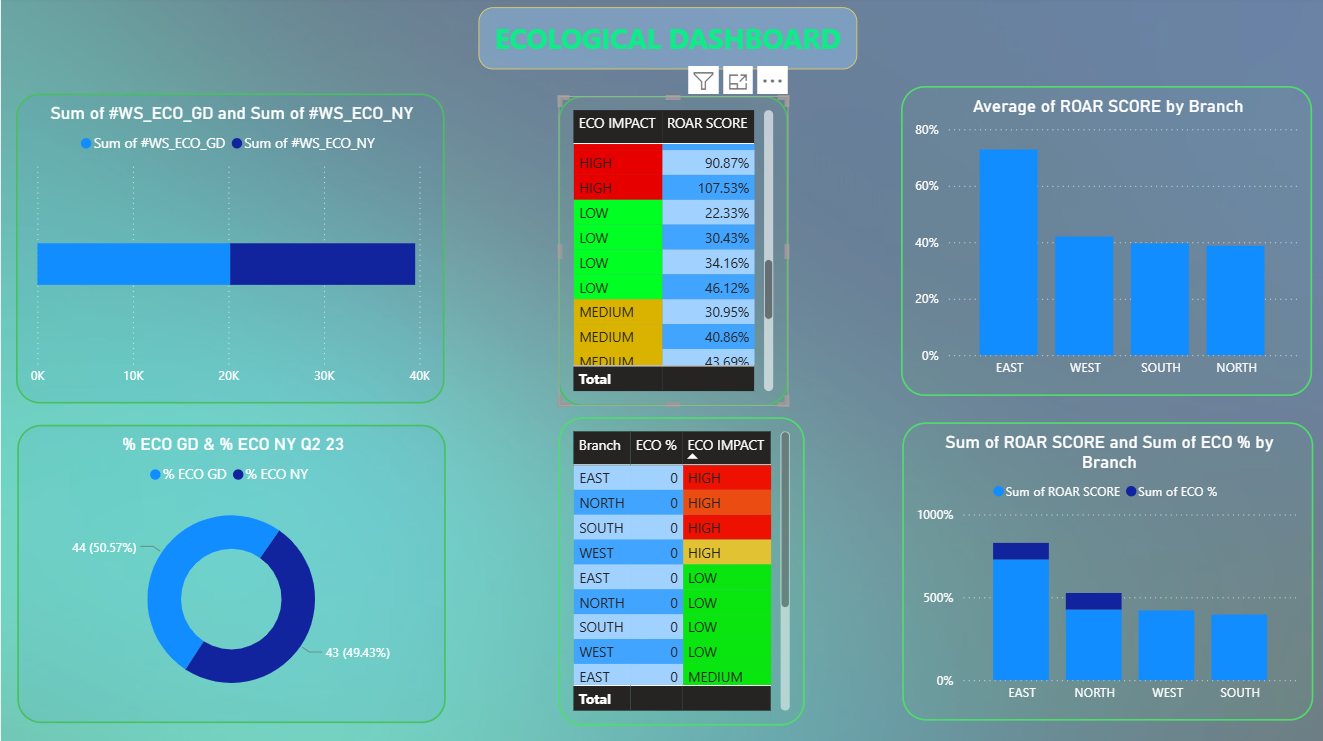

This screenshot's page, from the dashboard's own definition file:
{"tool":"powerbi","page":{"name":"ECOLOGICAL DASHBOARD & ROAR SCORES","canvas":[1280,720],"ordinal":2},"visuals":[{"type":"textbox","box":[460.9,10.9,365.6,60.3],"z":0},{"type":"barChart","fields":{"Y":["Sum(Q2,23 sum.#WS_ECO_GD)","Sum(Q2,23 sum.#WS_ECO_NY)"]},"box":[14.5,94.1,413.8,299.2],"z":1000},{"type":"donutChart","title":"% ECO GD & % ECO NY Q2 23","fields":{"Y":["Count(Q2'23 Summary.Column6)","Count(Q2'23 Summary.Column21)"]},"box":[15.7,413.8,413.8,288.3],"z":2000},{"type":"columnChart","fields":{"Category":["Jun Summary.Branch"],"Y":["Avg(Jun Summary.ROAR SCORE)"]},"box":[868.6,86.9,396.9,299.2],"z":3000},{"type":"columnChart","fields":{"Y":["Sum(Jun Summary.ROAR SCORE)","Sum(Jun Summary.ECO %)"],"Category":["Jun Summary.Branch"]},"box":[869.8,411.4,396.9,288.3],"z":4000},{"type":"tableEx","fields":{"Values":["Jun Summary.Branch","Jun Summary.ECO %","Jun Summary.ECO IMPACT"]},"box":[538.1,406.6,237.7,298],"z":6000},{"type":"tableEx","fields":{"Values":["Jun Summary.ECO IMPACT","Jun Summary.ROAR SCORE"]},"box":[538.1,96.5,222,299.2],"z":7000}]}

Visuals, with their boxes in screenshot pixels (x1, y1, x2, y2), scaled from the page's 1280x720 canvas onto the 1323x741 screenshot:
textbox: Rect(476, 11, 854, 73)
barChart - Sum(Q2,23 sum.#WS_ECO_GD) x Sum(Q2,23 sum.#WS_ECO_NY): Rect(15, 97, 443, 405)
"% ECO GD & % ECO NY Q2 23" donutChart: Rect(16, 426, 444, 723)
columnChart - Jun Summary.Branch x Avg(Jun Summary.ROAR SCORE): Rect(898, 89, 1308, 397)
columnChart - Sum(Jun Summary.ROAR SCORE) x Sum(Jun Summary.ECO %): Rect(899, 423, 1309, 720)
tableEx - Jun Summary.Branch x Jun Summary.ECO %: Rect(556, 418, 802, 725)
tableEx - Jun Summary.ECO IMPACT x Jun Summary.ROAR SCORE: Rect(556, 99, 786, 407)
